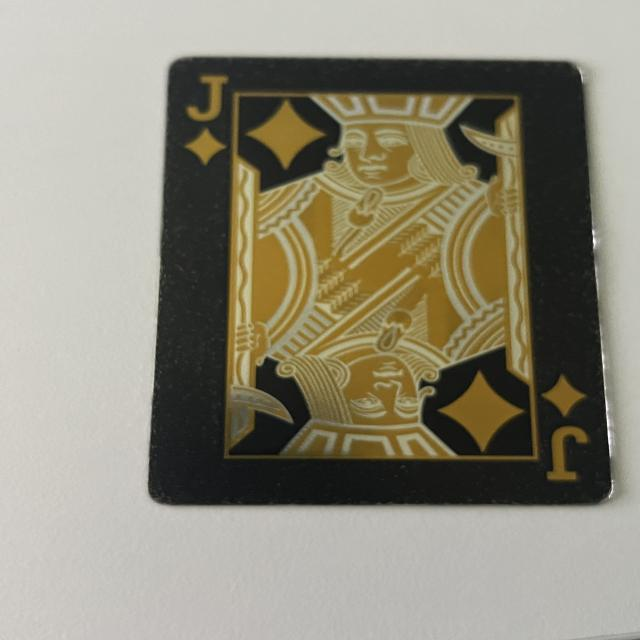JD: (528, 375, 598, 482), (177, 64, 242, 175)
